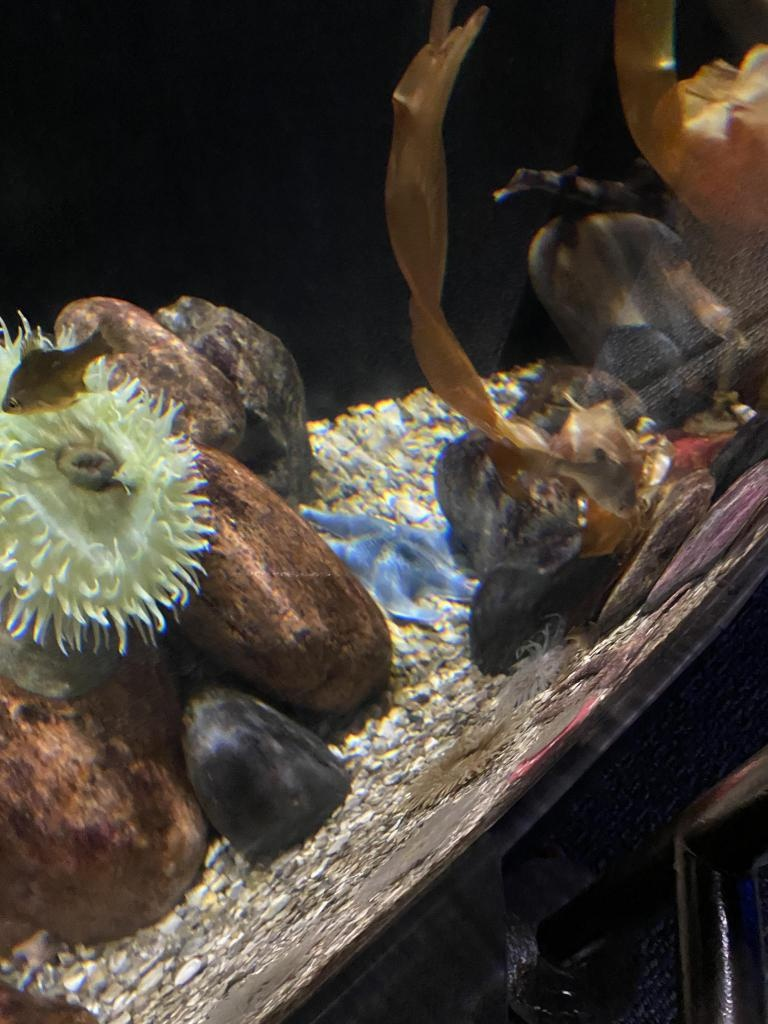fish: (1, 308, 153, 416), (548, 448, 638, 520)
starfish: (296, 502, 478, 624)
